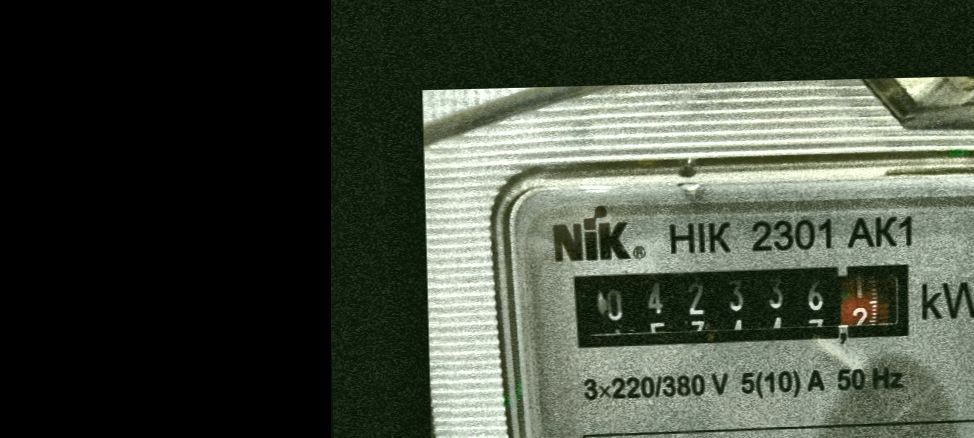0: (603, 290, 624, 325)
1: (850, 274, 864, 304)
2: (684, 284, 705, 320), (848, 308, 868, 330)
3: (762, 278, 783, 314), (725, 279, 744, 317)
4: (644, 282, 663, 319)
6: (802, 280, 824, 315)
screen: (564, 257, 918, 359)
